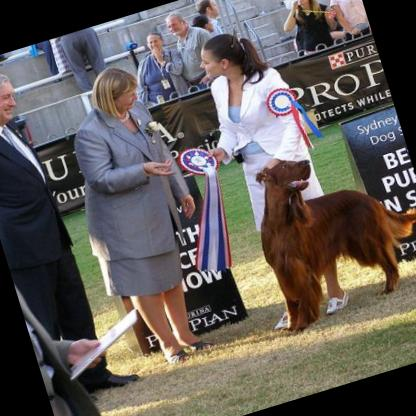Irish_setter: (236, 118, 416, 335)
